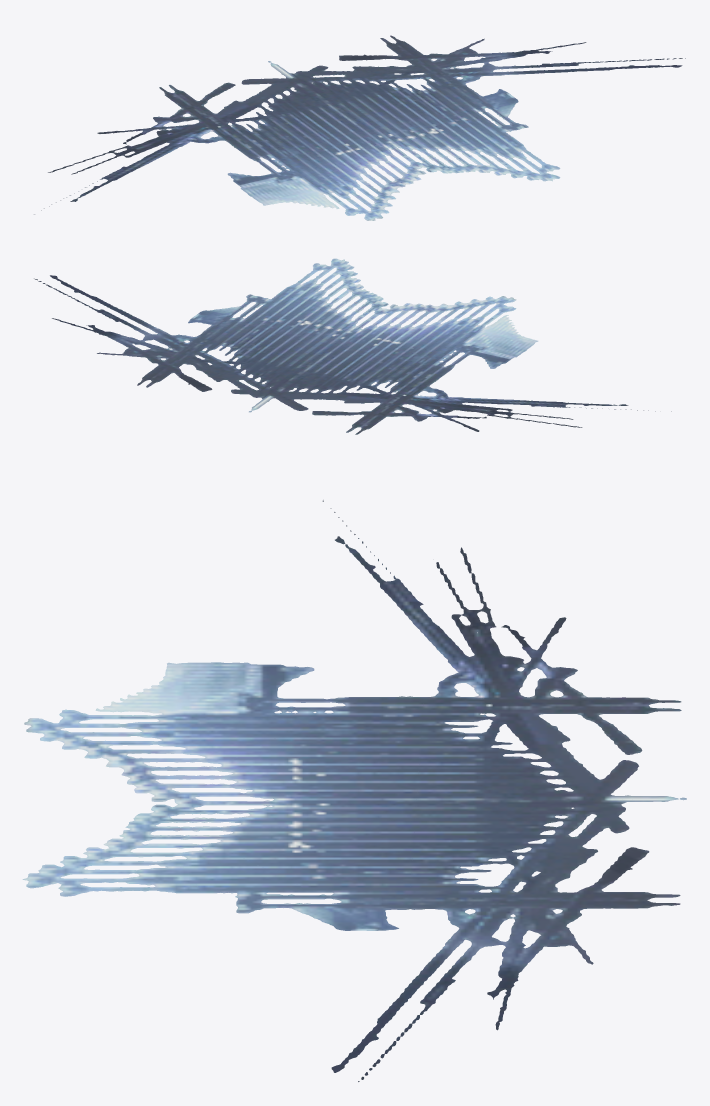
The model's file is build0.fbx.
3 views of the same model, one above another, from view 1: azimuth 30°, elevation 25°; view 2: azimuth 150°, elevation 25°; view 3: azimuth 270°, elevation 25° (orthographic). The views are drawn at different scales.
Parts seen in each view (by area): view 1: mesh_146_196.nr; view 2: mesh_146_196.nr; view 3: mesh_146_196.nr.
Part boxes in pixels (left/top/right/bottom): mesh_146_196.nr: left=34, top=35, right=685, bottom=220; mesh_146_196.nr: left=34, top=258, right=671, bottom=434; mesh_146_196.nr: left=22, top=500, right=686, bottom=1081.
Bounding box in the file's own units: 181345 × 89841 × 3455.
